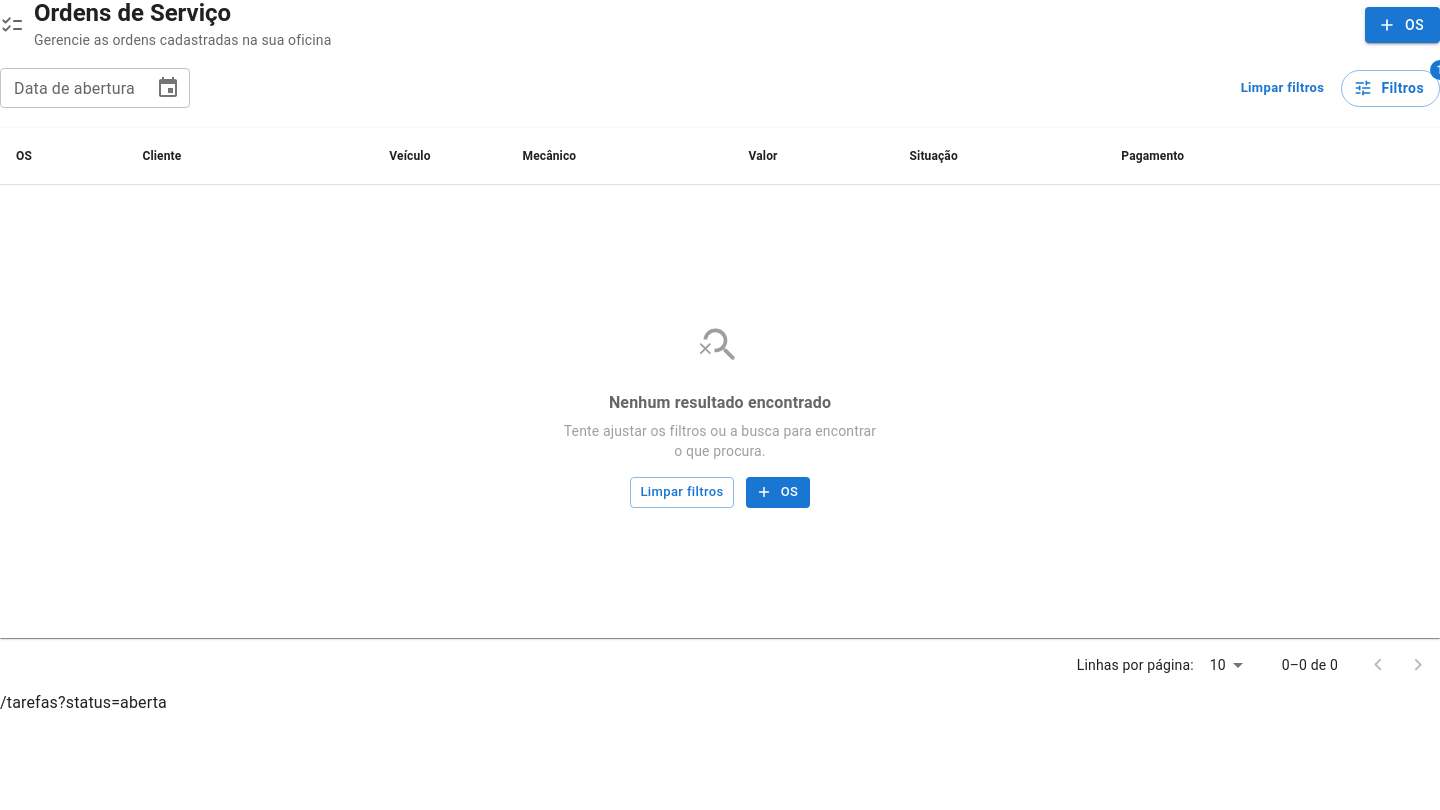
it: filtro pela URL › O.S.: ?status=aberta filtra na montagem e trocar a situação atualiza a URL
Click the button "Filtros" at (1391, 88), box [1341,70,1439,107]
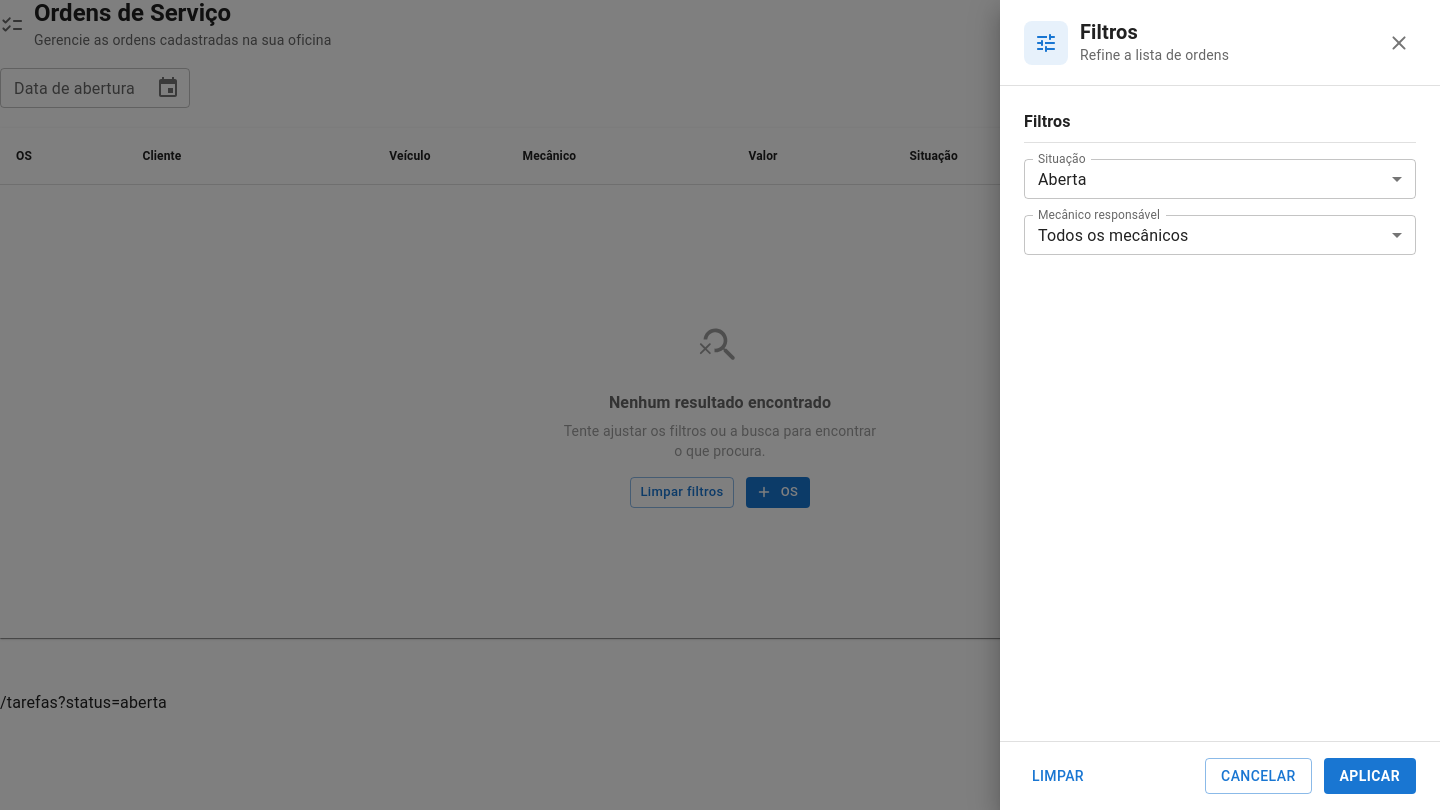
Click the dropdown named "Situação" at (1062, 179), box [1038,170,1087,188]
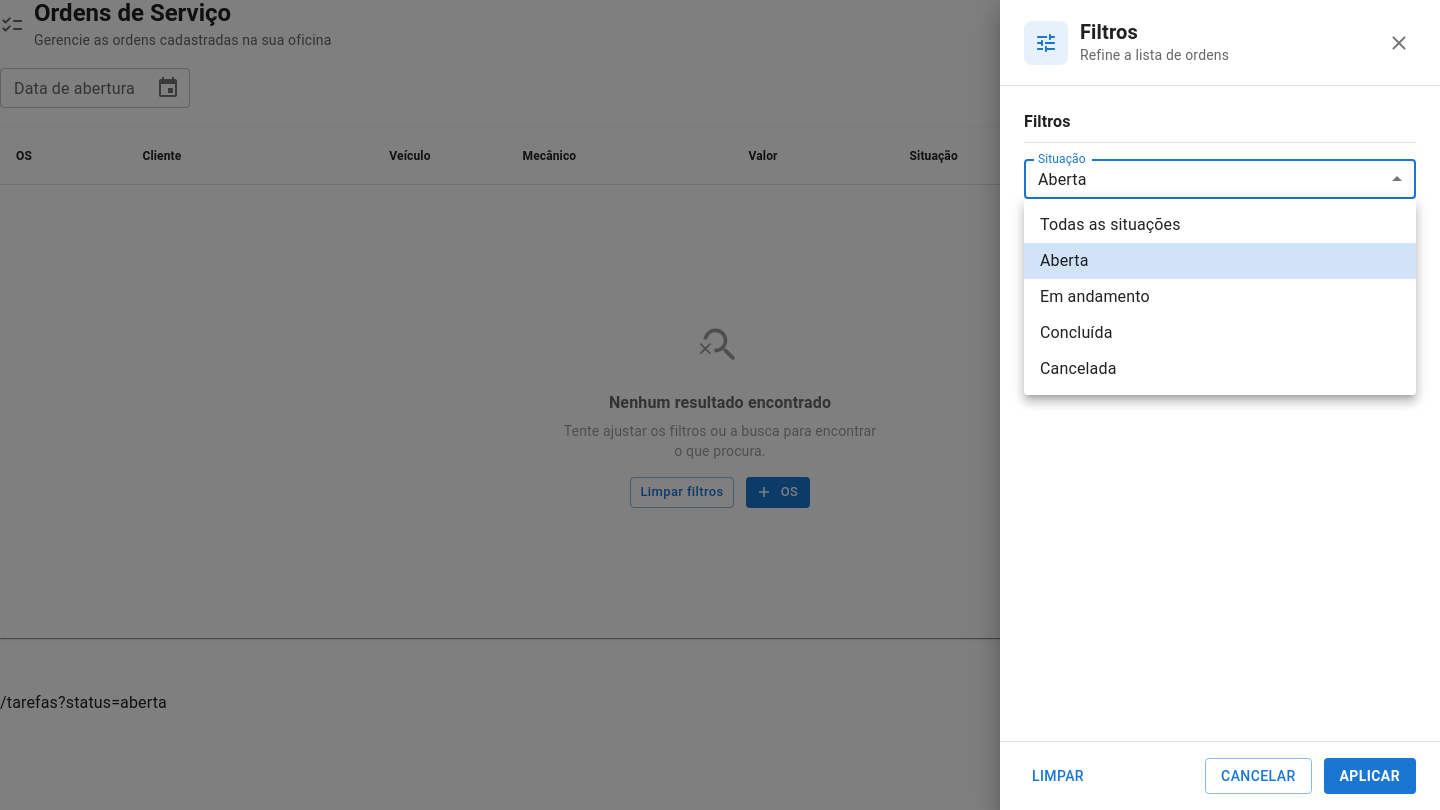
Click the option "Concluída" at (1076, 332), box [1040,323,1112,342]
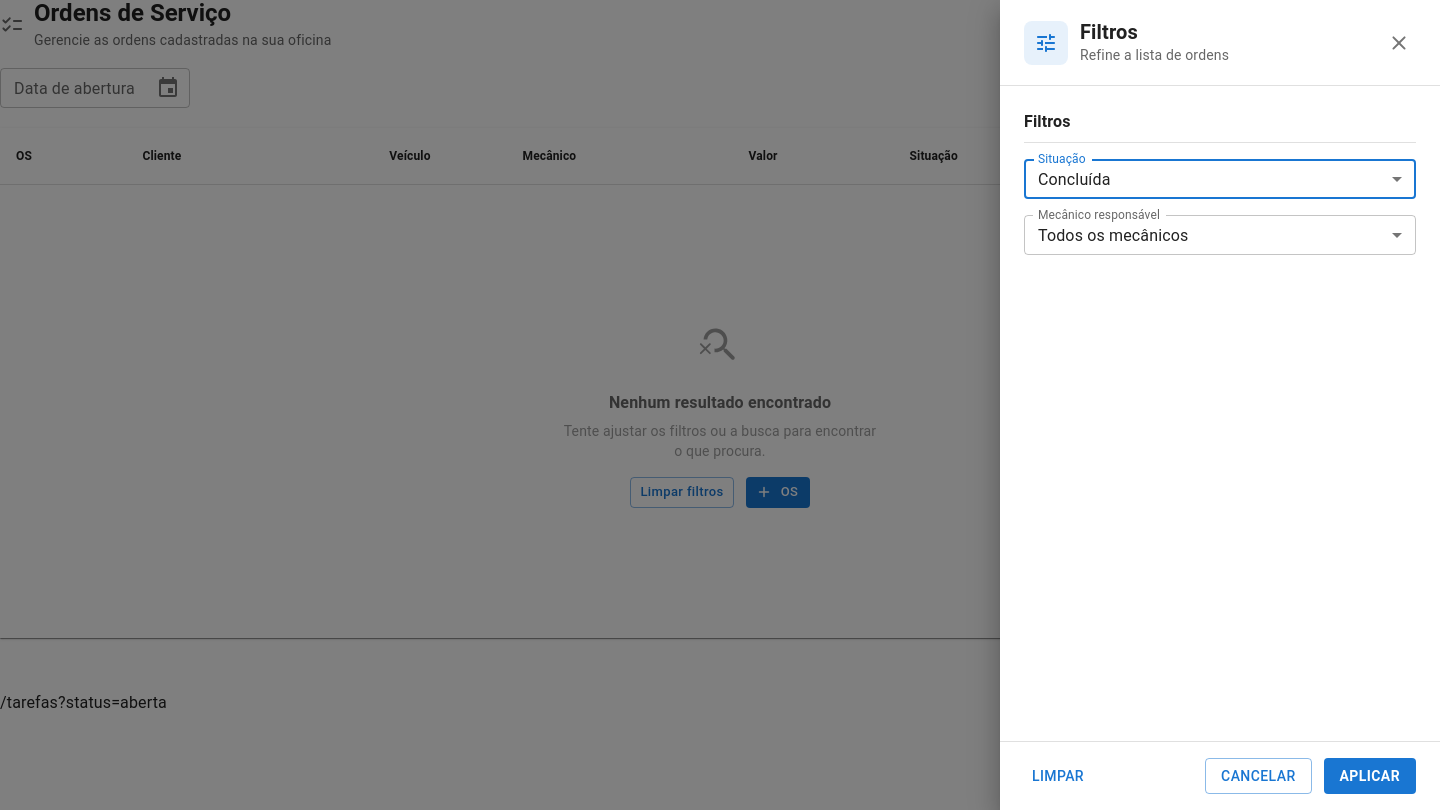
Check: the text with test id "onde" reads "/tarefas?status=aberta", box [0,693,167,712]
Click the button "Aplicar" at (1370, 776), box [1324,758,1416,794]
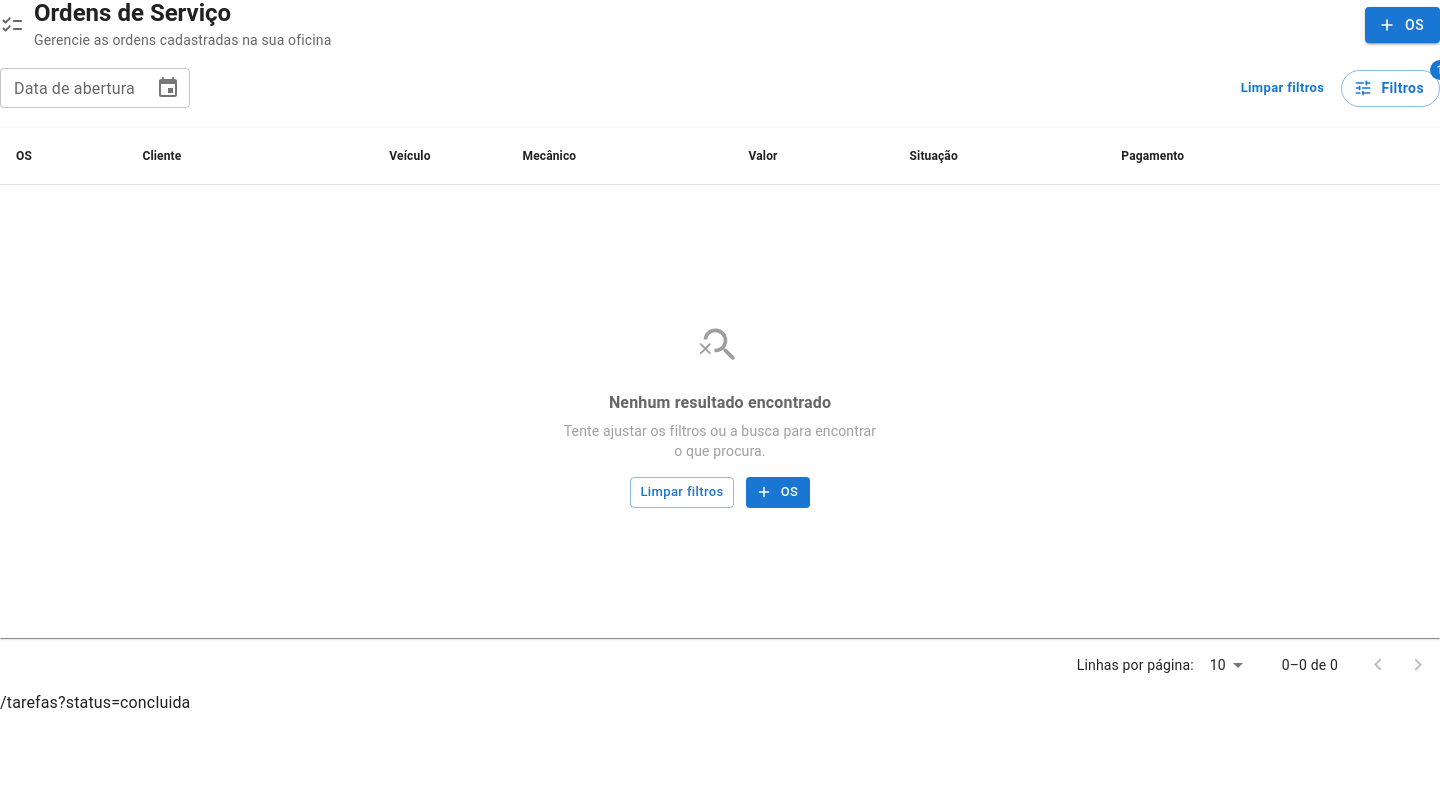
Check: the text with test id "onde" reads "/tarefas?status=concluida", box [0,693,190,712]
